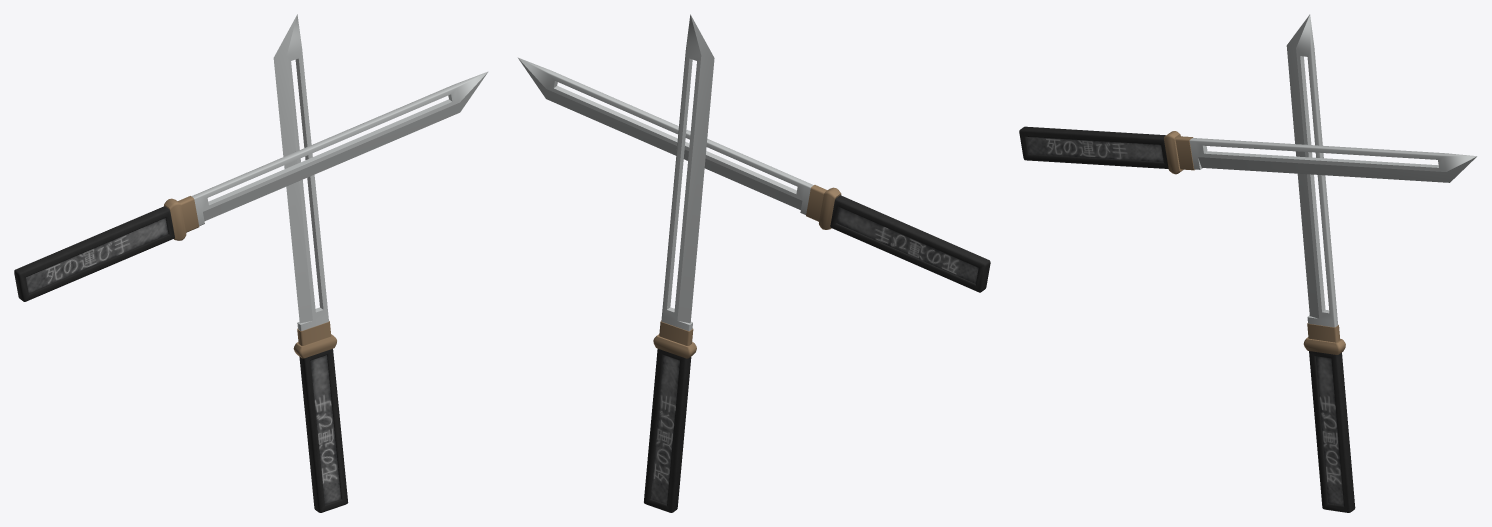
The model's file is twinswords.glb.
3 views of the same model, side by side, from view 1: azimuth 30°, elevation 25°; view 2: azimuth 150°, elevation 25°; view 3: azimuth 330°, elevation 25° (orthographic). The views are drawn at different scales.
Visible parts, largest first — view 1: w_r; view 2: w_r; view 3: w_r.
Part boxes in pixels (bbox=[...]): w_r: bbox=[14, 14, 488, 512]; w_r: bbox=[518, 14, 990, 512]; w_r: bbox=[1019, 14, 1476, 512].
Bounding box in the file's own units: 0.6093 × 0.6198 × 0.0321.
4 materials, 4 textured.
